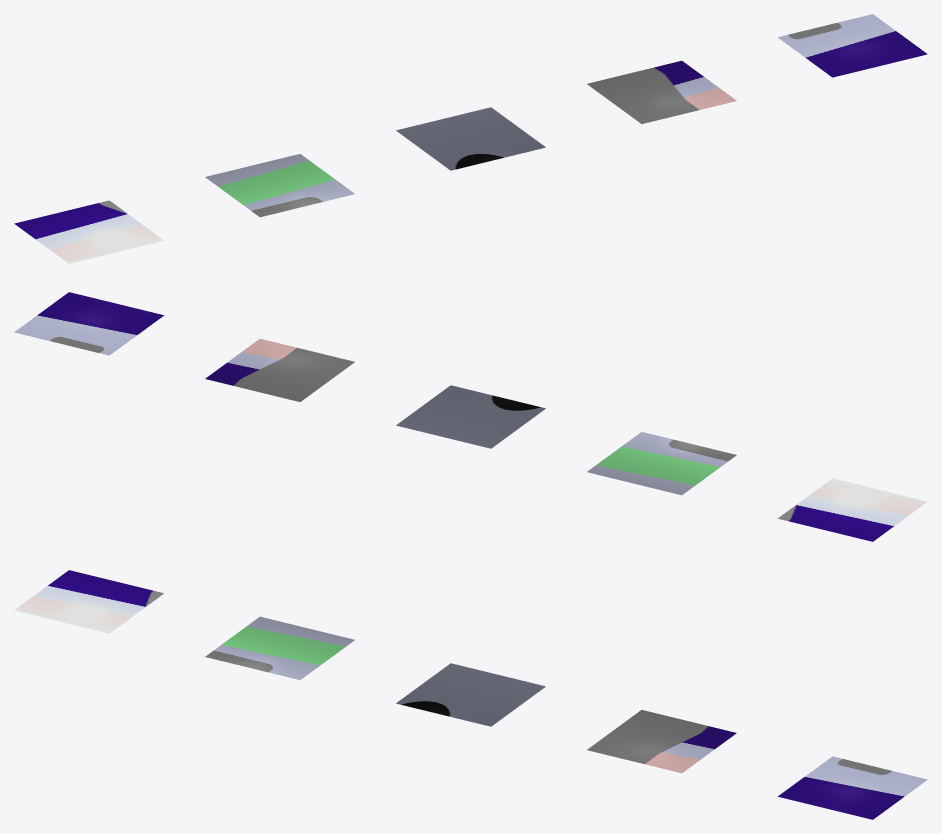
The model's file is CessnaArtificialPlane.obj.
The picture shows the model from 3 angles, top to bottom: view 1: azimuth 30°, elevation 25°; view 2: azimuth 150°, elevation 25°; view 3: azimuth 330°, elevation 25°; orthographic projection.
Visible parts, largest first — view 1: 002_image3, 003_image5, 004_image7, 001_image4, 005_image8; view 2: 002_image3, 003_image5, 004_image7, 001_image4, 005_image8; view 3: 002_image3, 003_image5, 004_image7, 001_image4, 005_image8.
Part boxes in pixels (bbox=[...]): 002_image3: bbox=[205, 154, 354, 217]; 003_image5: bbox=[396, 107, 545, 170]; 004_image7: bbox=[587, 60, 736, 123]; 001_image4: bbox=[14, 200, 163, 263]; 005_image8: bbox=[778, 14, 927, 77]; 002_image3: bbox=[587, 432, 736, 495]; 003_image5: bbox=[396, 385, 545, 448]; 004_image7: bbox=[205, 338, 354, 401]; 001_image4: bbox=[778, 478, 927, 541]; 005_image8: bbox=[14, 292, 163, 355]; 002_image3: bbox=[205, 616, 354, 679]; 003_image5: bbox=[396, 663, 545, 726]; 004_image7: bbox=[587, 710, 736, 773]; 001_image4: bbox=[14, 570, 163, 633]; 005_image8: bbox=[778, 756, 927, 819].
Size of what is drawn, in the model's own units: 45 by 0 by 5.
